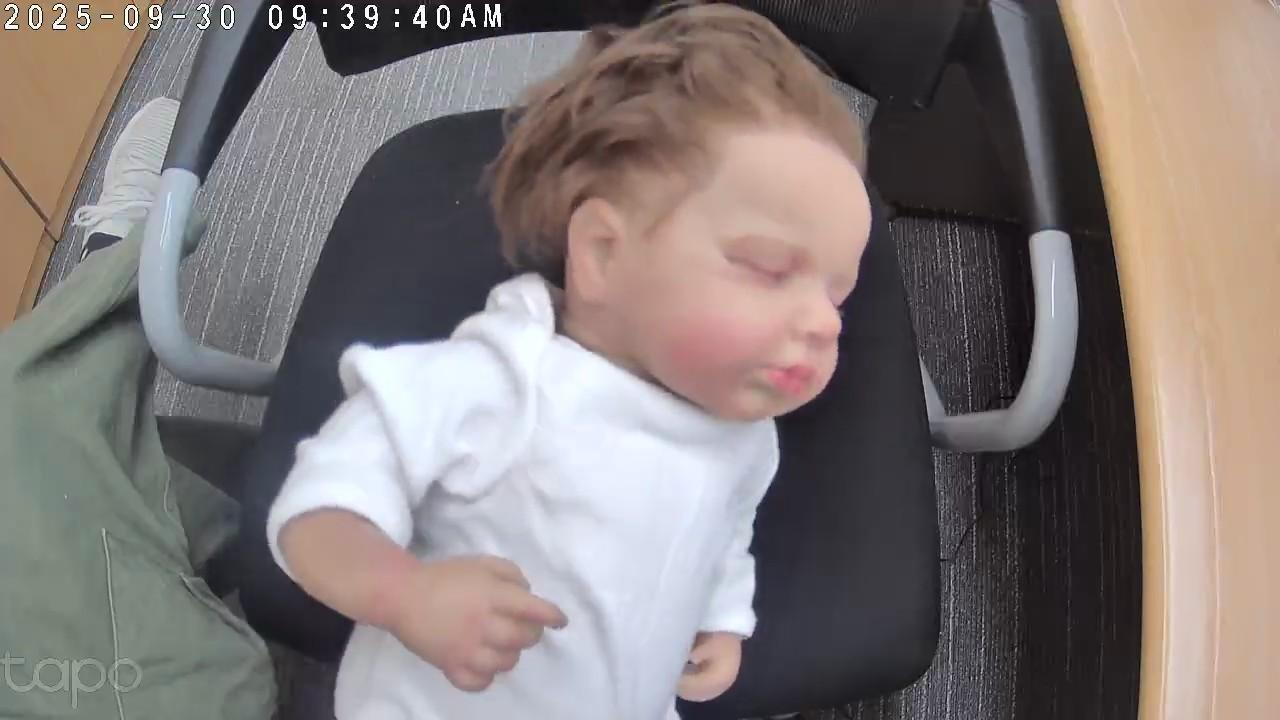hand: (402, 551, 566, 694)
